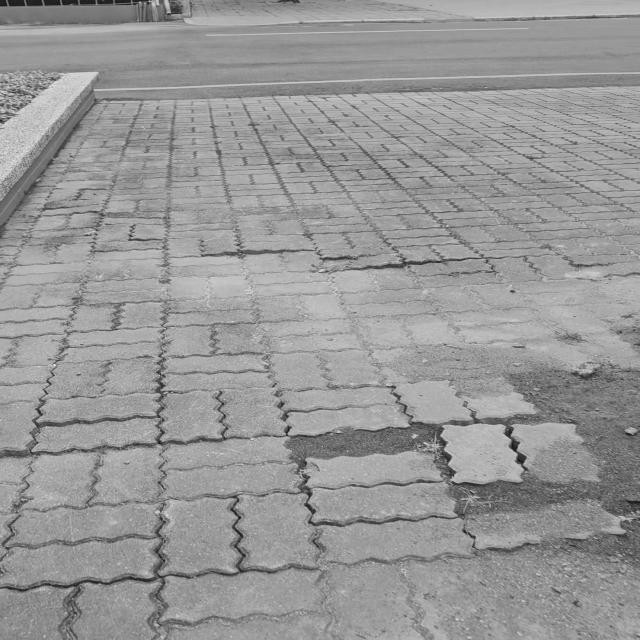Road-Object: (0, 0, 639, 640)
floor: (0, 63, 126, 227)
